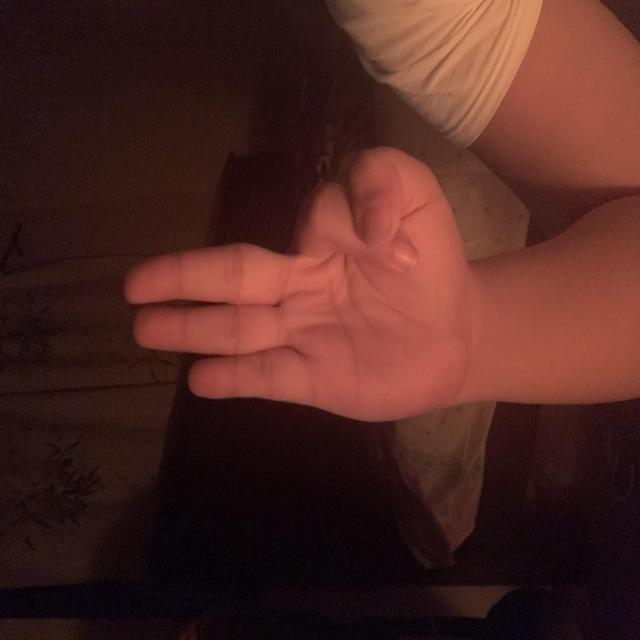F: (142, 122, 427, 475)
